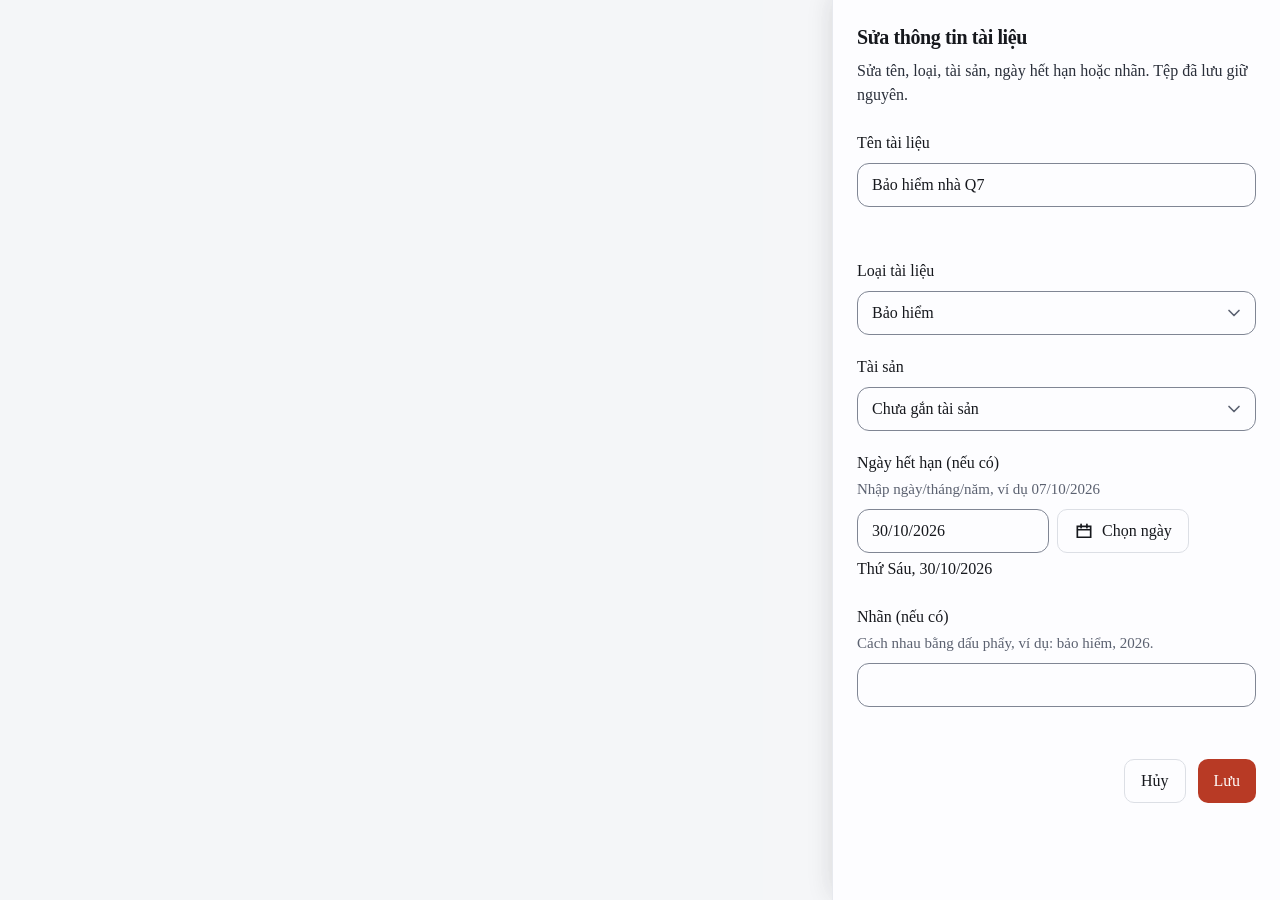
Test: Sửa thông tin › refuses the unreadable date 30-10-26 under the field and sends nothing
The image size is (1280, 900).
Replace the text in the field labelled "Ngày hết hạn (nếu có)" with "30-10-26" at (953, 531), box [857, 509, 1049, 553]
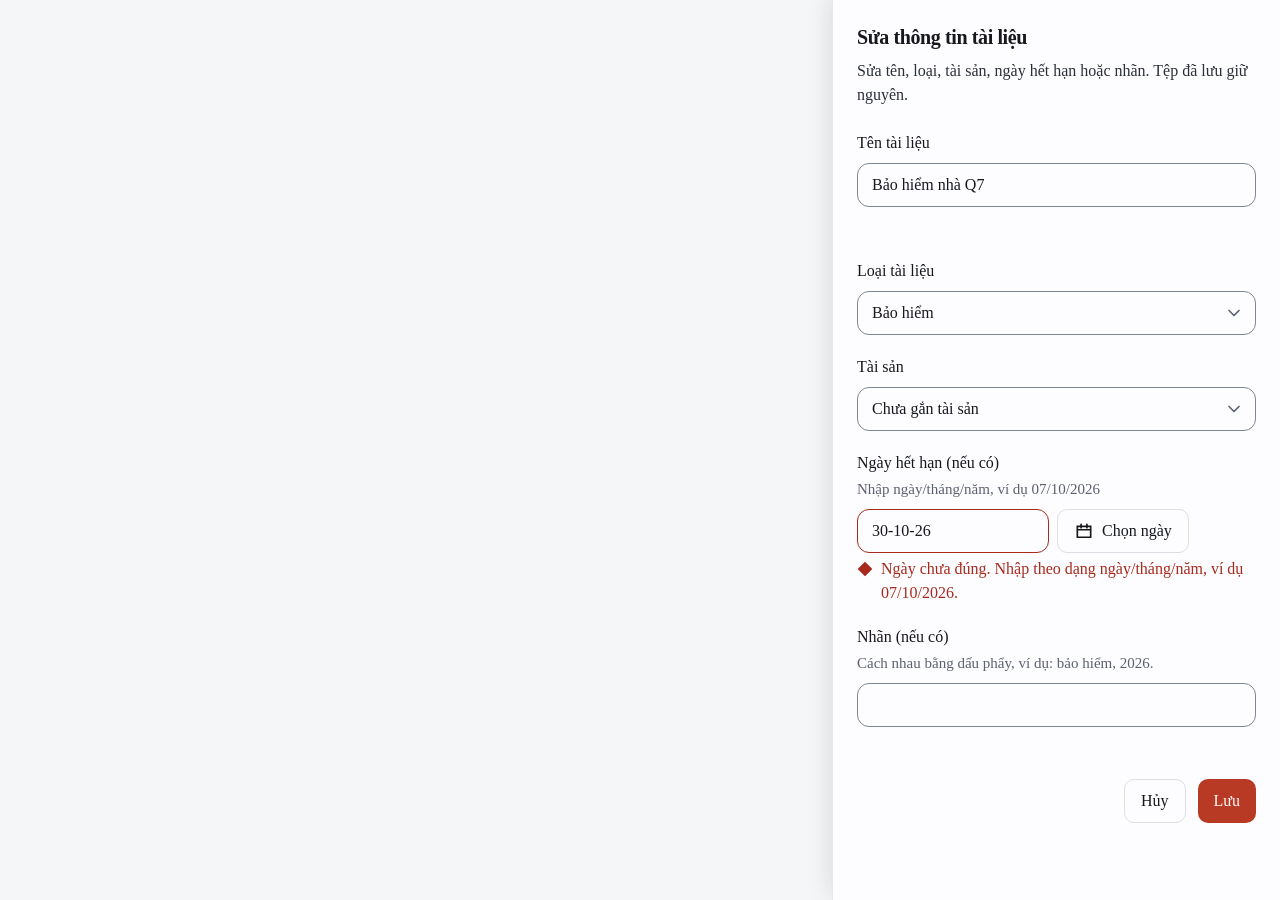
Click the button with test id "save-edit".
click(1227, 800)  # box [1198, 778, 1256, 822]
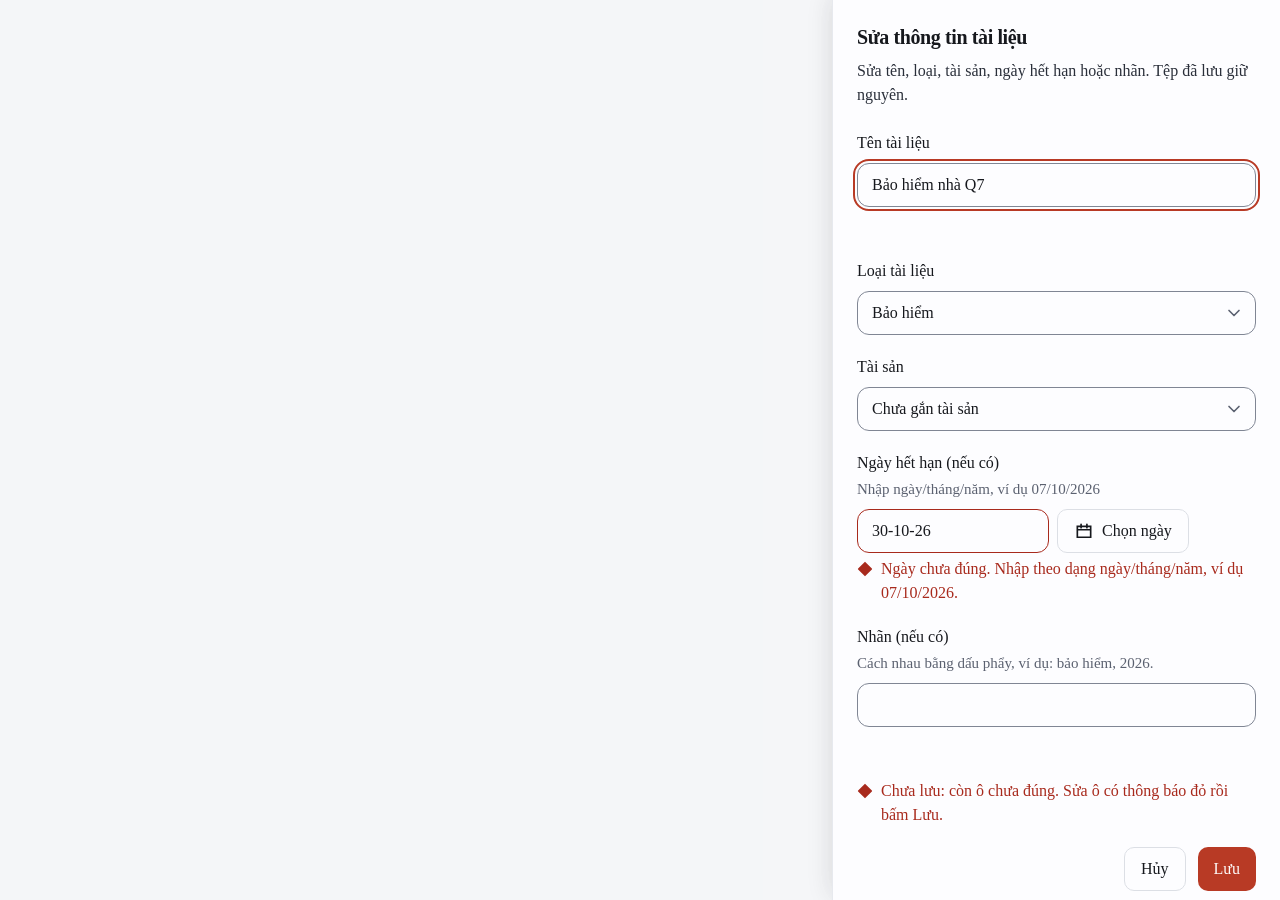
Expected: the text "Ngày chưa đúng." is shown, [881, 560, 1243, 601]
Expected: the message with test id "edit-invalid" shows "Chưa lưu", [881, 782, 1228, 822]
